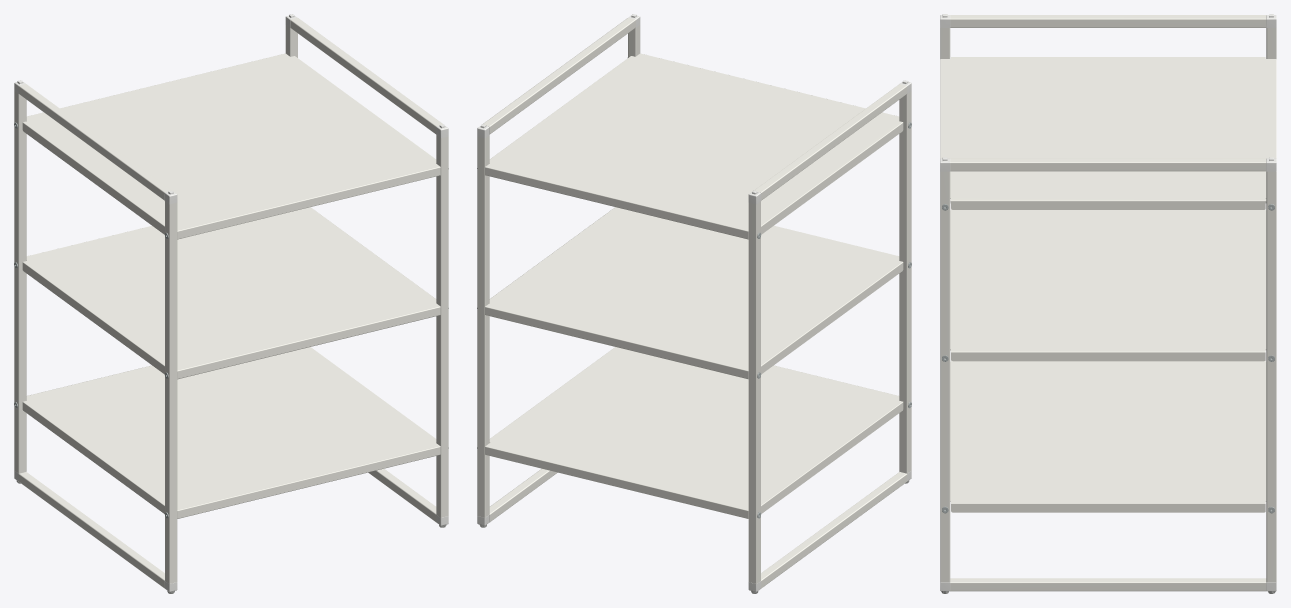
File: JONAXEL shelf.glb
3 views of the same model, side by side, from view 1: azimuth 30°, elevation 25°; view 2: azimuth 150°, elevation 25°; view 3: azimuth 270°, elevation 25° (orthographic). The views are drawn at different scales.
Parts seen in each view (by area): view 1: Mesh_0; view 2: Mesh_0; view 3: Mesh_0.
Boxes of the visible parts, <box> form: Mesh_0: <box>14,14,448,593</box>; Mesh_0: <box>477,14,911,593</box>; Mesh_0: <box>940,14,1276,593</box>.
Size of the model in its own units: 0.5155 by 0.703 by 0.4939.
Materials: 1 (1 with a texture image).
